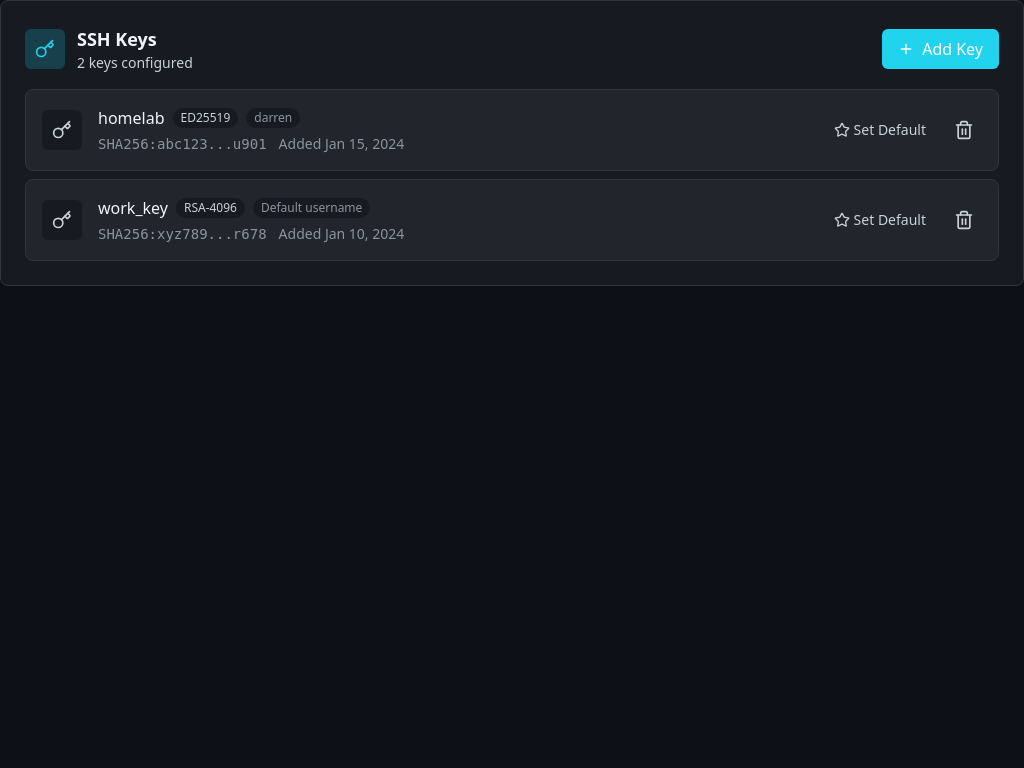
Test: SSHKeyManager › Add Key Modal › closes add modal when clicking Cancel
Click the button with test id "add-key-button" at (941, 49), box [882,29,999,69]
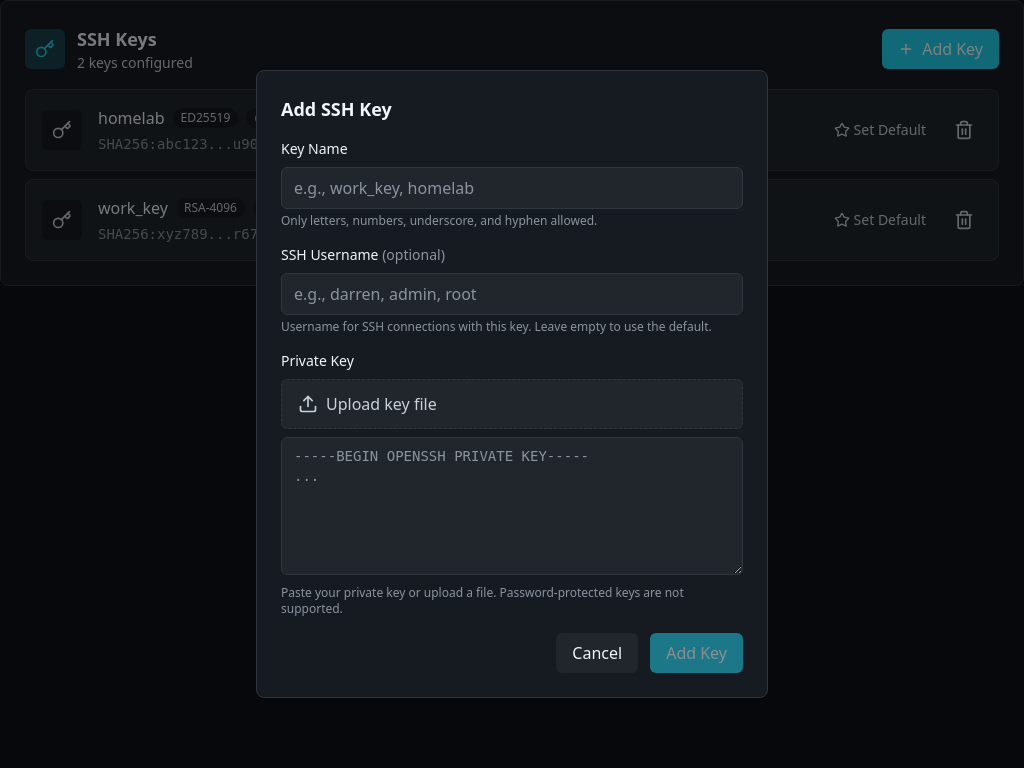
Expected: the heading "Add SSH Key" is shown, [281,97,392,121]
Click the button "Cancel" at (597, 653), box [556,633,638,673]
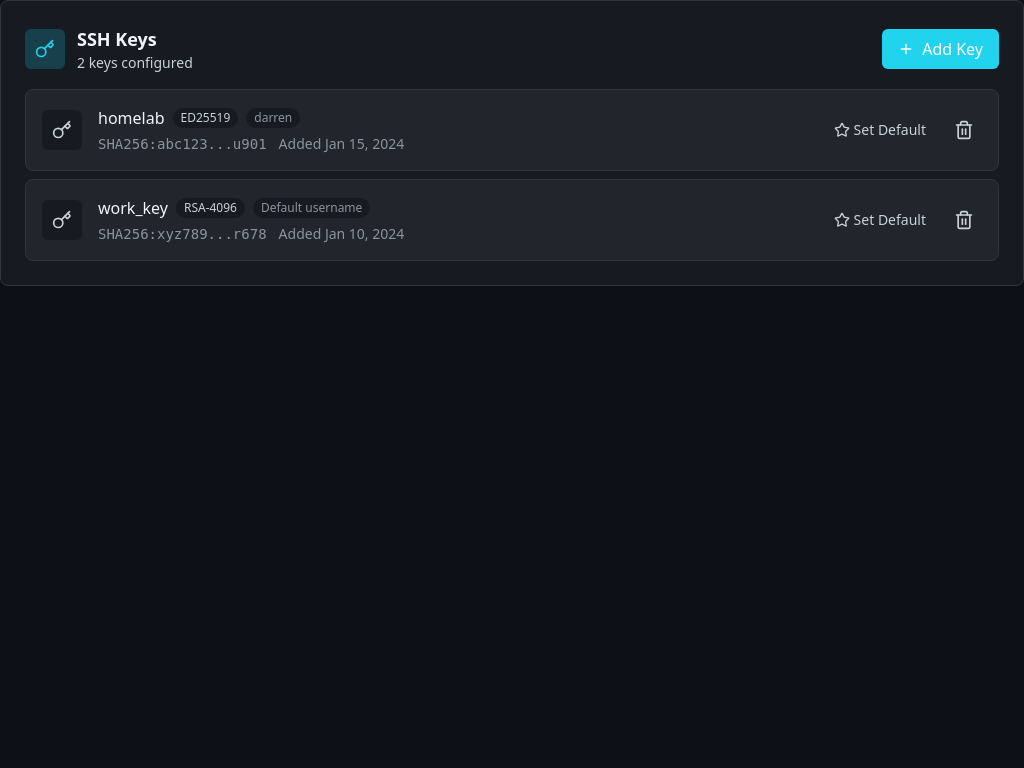
Expected: the heading "Add SSH Key" is gone
